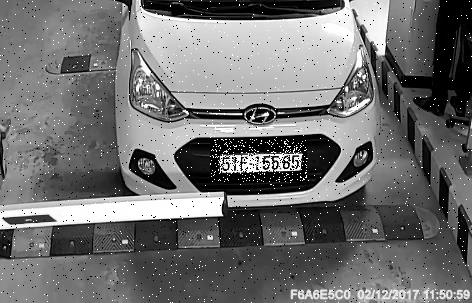License-plate: (211, 140, 308, 183)
